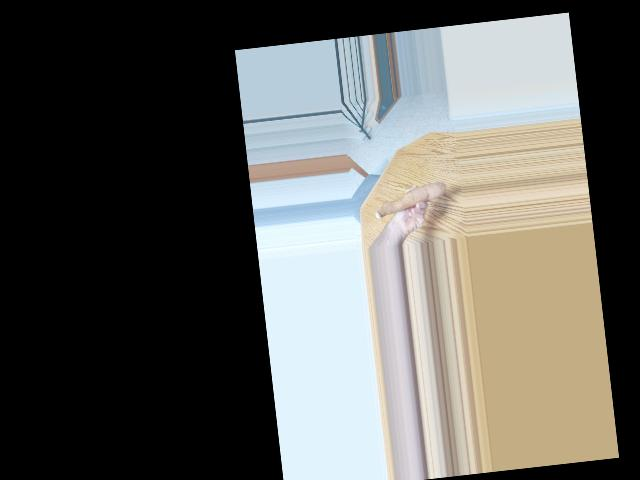sweet_potato: (372, 178, 446, 225)
